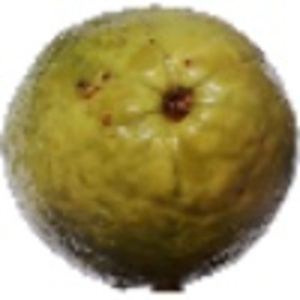goiaba: (5, 7, 295, 285)
